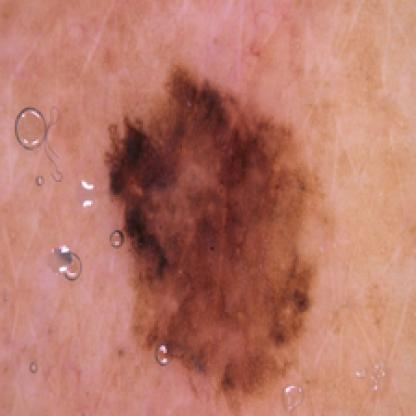benign: (104, 60, 323, 388)
